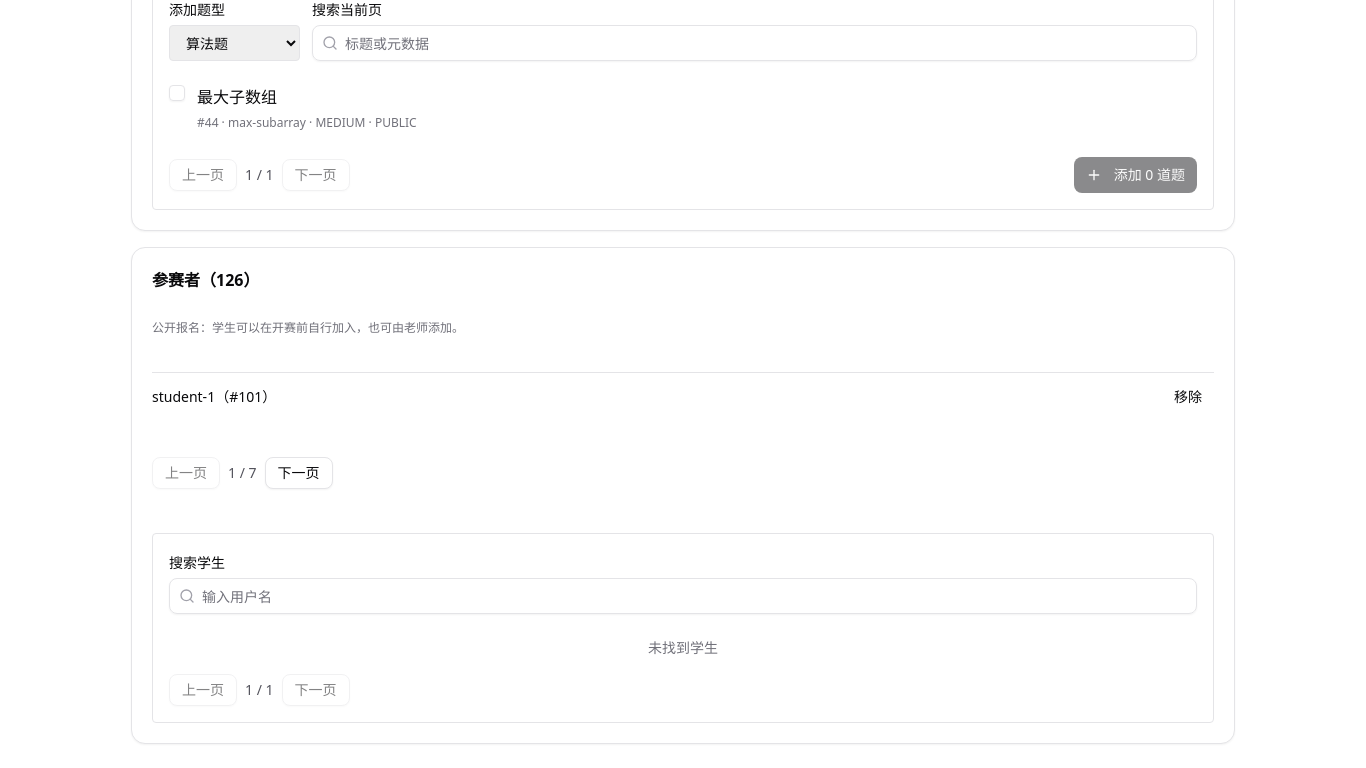
Test case: contest stage UI › paginates all 126 participants instead of treating the first page as complete
(page scrolled)
Check: the text "1 / 7" is shown, box left=228, top=463, right=256, bottom=483
Step 1. Click the 2nd button "下一页" → (298, 473), box left=264, top=457, right=332, bottom=489
(page scrolled)
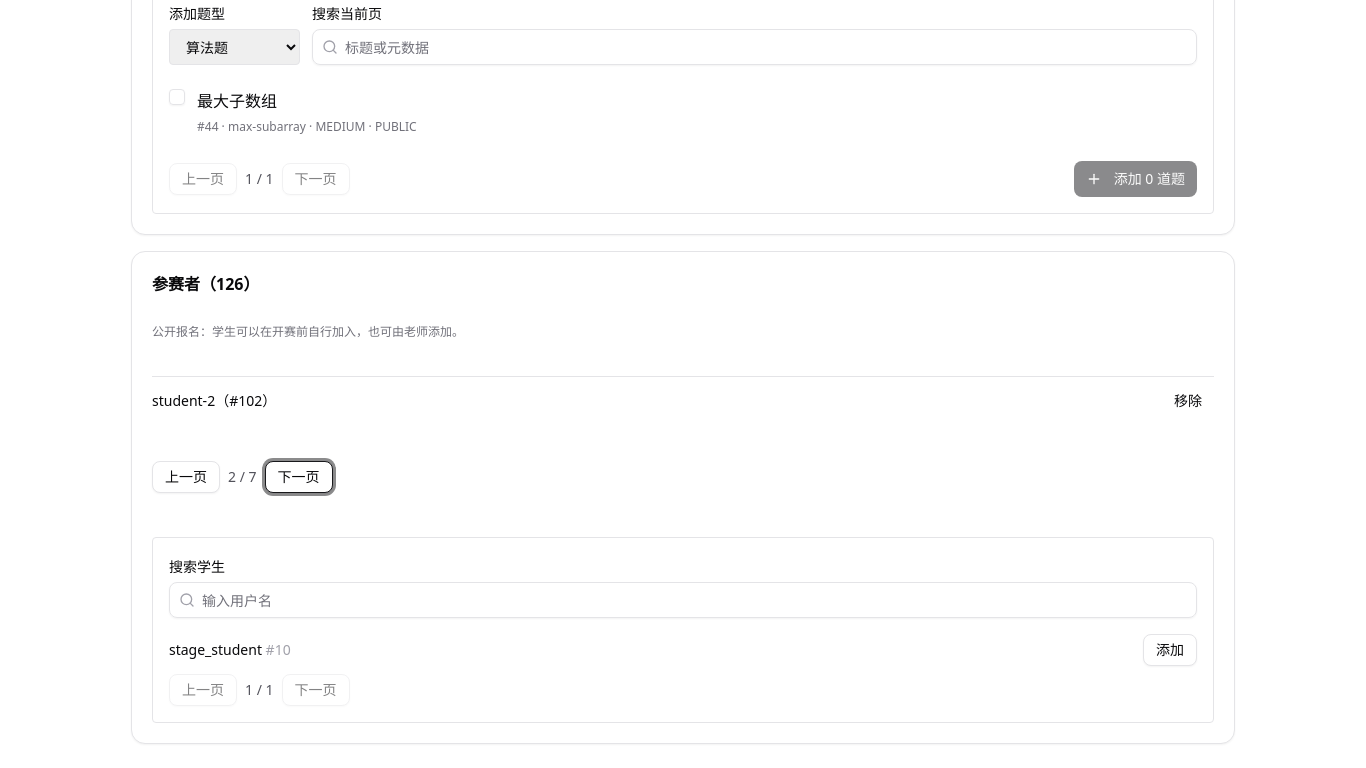
Check: the text "2 / 7" is shown, box left=228, top=467, right=256, bottom=487
